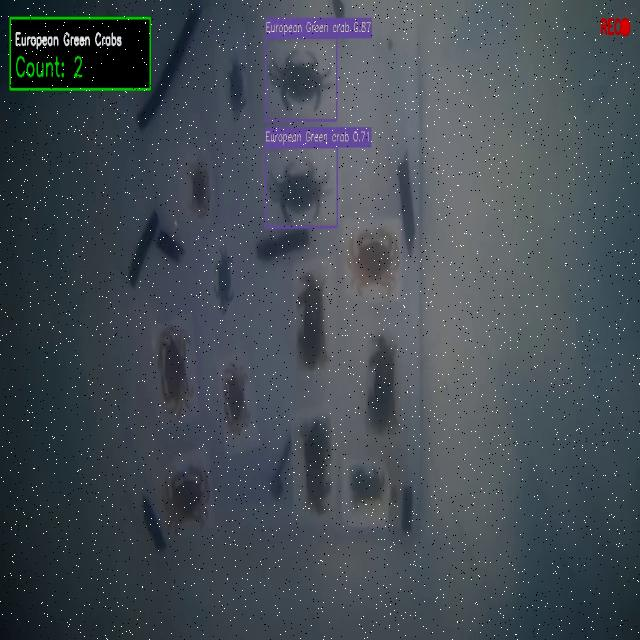European_Green_Crab: (264, 151, 332, 233), (269, 41, 334, 118), (224, 55, 248, 127), (213, 249, 239, 314)
